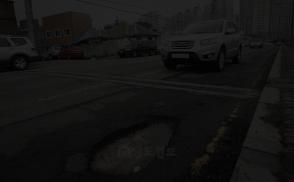pothole: (85, 108, 182, 181)
